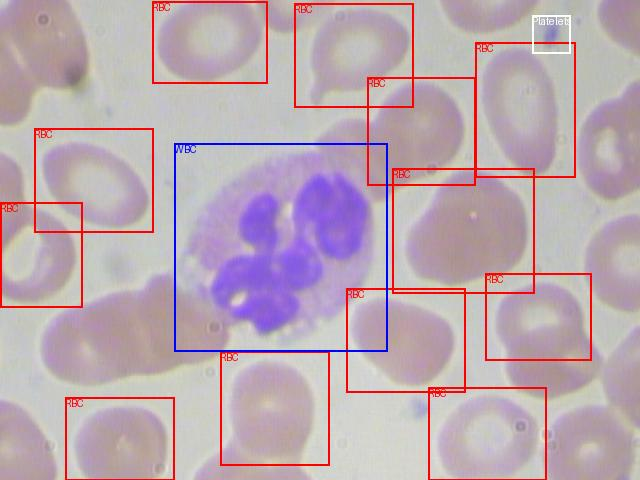Platelets: (532, 15, 570, 53)
RBC: (392, 168, 534, 293), (475, 42, 575, 177), (220, 351, 329, 465), (294, 3, 413, 107), (34, 128, 153, 232), (346, 288, 465, 392), (367, 77, 475, 185), (428, 387, 546, 480), (152, 1, 267, 83), (485, 273, 591, 360), (65, 397, 174, 480), (0, 202, 82, 307)
WBC: (174, 143, 387, 351)
